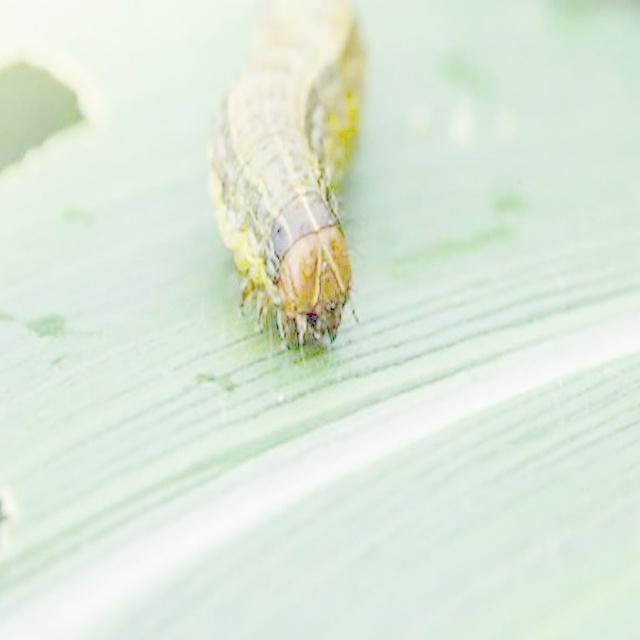worm: (207, 1, 367, 357)
